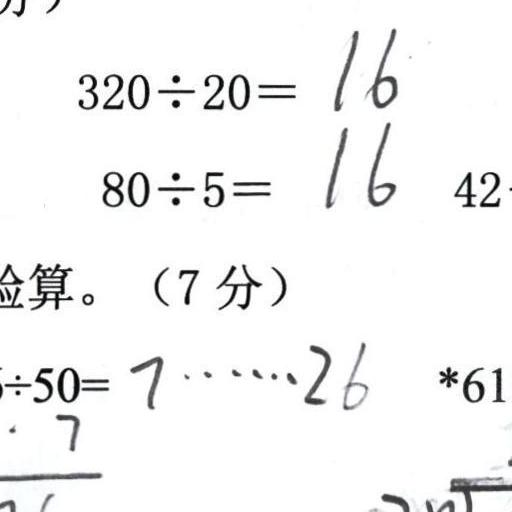ans: (130, 340, 372, 412), (316, 116, 396, 209), (327, 22, 399, 111)
